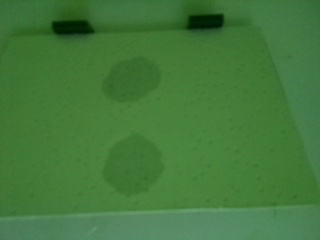Water_detected: (123, 142, 167, 191), (118, 62, 165, 100)
